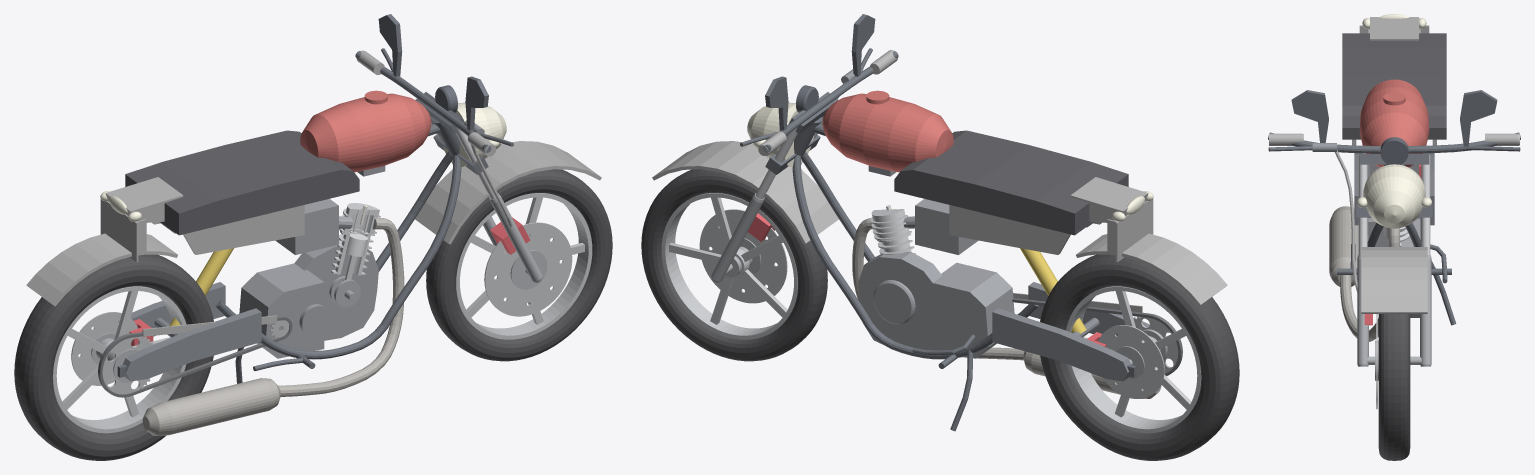
File: moto_honda.glb
3 renders of one model, left to right at view 1: azimuth 30°, elevation 25°; view 2: azimuth 150°, elevation 25°; view 3: azimuth 270°, elevation 25°, orthographic. The views are drawn at different scales.
Parts seen in each view (by area): view 1: llanta_trasera, sillin, llanta_delantera, tanque, guardabarros_delantero, guardabarros_trasero, disco_delantero, rin_trasero, rin_delantero, silenciador, basculante, carter (+24 smaller); view 2: llanta_trasera, sillin, llanta_delantera, carter, tanque, rin_delantero, guardabarros_delantero, guardabarros_trasero, rin_trasero, basculante_brazo_izquierdo, disco_delantero, cubierta_izquierda (+20 smaller); view 3: sillin, llanta_delantera, guardabarros_delantero, tanque, farola, silenciador, manubrio, colin, espejo_izquierdo, espejo_derecho, tubo_escape, botella_izquierda (+15 smaller).
Boxes of the visible parts, x1,y1,x2,y2 form: llanta_trasera: [14, 254, 213, 460]; sillin: [125, 130, 359, 235]; llanta_delantera: [426, 169, 612, 361]; tanque: [300, 93, 431, 172]; guardabarros_delantero: [415, 141, 601, 244]; guardabarros_trasero: [26, 204, 177, 306]; disco_delantero: [484, 222, 572, 316]; rin_trasero: [52, 286, 186, 433]; rin_delantero: [456, 193, 592, 339]; silenciador: [142, 378, 280, 435]; basculante: [122, 308, 261, 381]; carter: [239, 239, 378, 343]; llanta_trasera: [1040, 254, 1239, 460]; sillin: [894, 130, 1128, 235]; llanta_delantera: [641, 169, 827, 361]; carter: [858, 251, 995, 358]; tanque: [822, 93, 953, 172]; rin_delantero: [661, 193, 797, 339]; guardabarros_delantero: [652, 141, 838, 244]; guardabarros_trasero: [1076, 204, 1227, 306]; rin_trasero: [1066, 286, 1201, 433]; basculante_brazo_izquierdo: [992, 308, 1131, 381]; disco_delantero: [699, 209, 787, 303]; cubierta_izquierda: [949, 205, 1070, 254]; sillin: [1342, 33, 1446, 139]; llanta_delantera: [1378, 314, 1410, 460]; guardabarros_delantero: [1361, 247, 1427, 313]; tanque: [1359, 79, 1429, 167]; farola: [1363, 164, 1425, 228]; silenciador: [1329, 206, 1358, 286]; manubrio: [1268, 132, 1520, 153]; colin: [1370, 17, 1418, 40]; espejo_izquierdo: [1460, 90, 1497, 146]; espejo_derecho: [1291, 90, 1328, 142]; tubo_escape: [1340, 228, 1399, 341]; botella_izquierda: [1420, 255, 1431, 366].
Size of the model in its own units: 1.89 by 1.01 by 0.7263.
